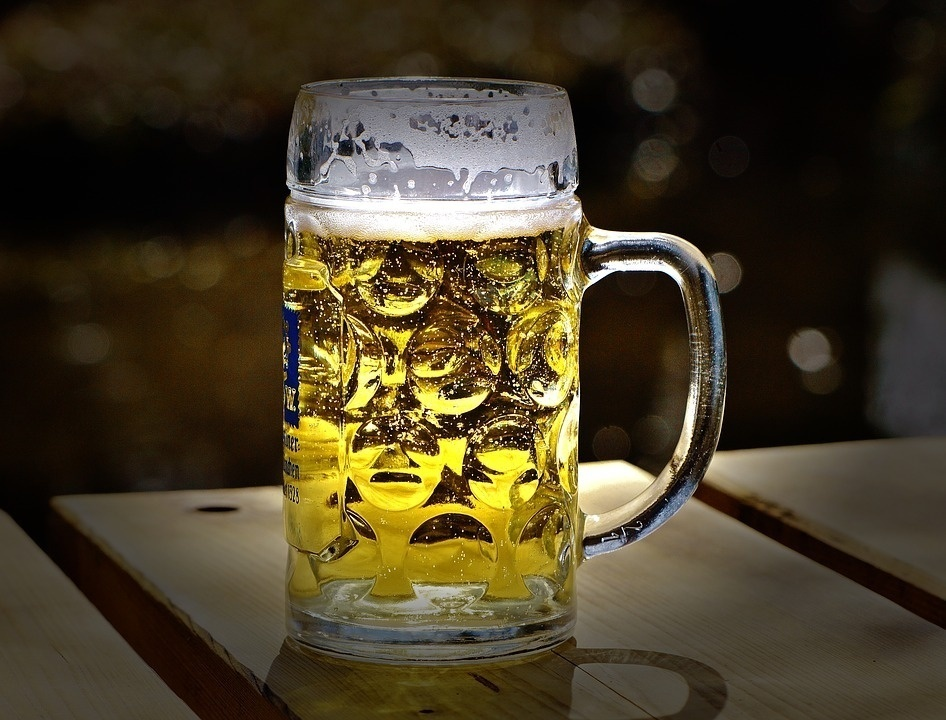whiskey: (276, 77, 590, 647)
